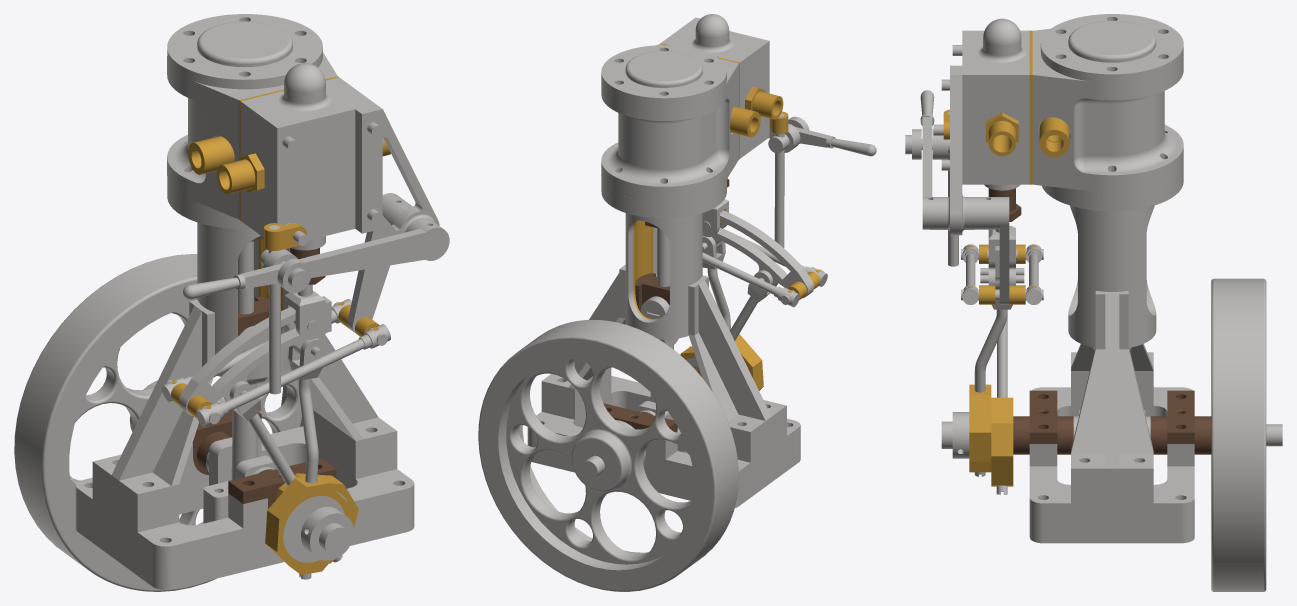
The picture shows the model from 3 angles, left to right: view 1: azimuth 30°, elevation 25°; view 2: azimuth 150°, elevation 25°; view 3: azimuth 270°, elevation 25°; orthographic projection. The views are drawn at different scales.
Visible parts, largest first — view 1: Solid1 (×34), 2-03.1:1; view 2: Solid1 (×23), 2-03.1:1; view 3: Solid1 (×26).
Boxes of the visible parts, x1,y1,x2,y2 form: Solid1 (×34): (14, 14, 449, 591); 2-03.1:1: (203, 326, 268, 523); Solid1 (×23): (478, 14, 876, 591); 2-03.1:1: (640, 296, 687, 453); Solid1 (×26): (920, 14, 1266, 591).
Bounding box in the file's own units: 0.1194 × 0.2234 × 0.1373.
